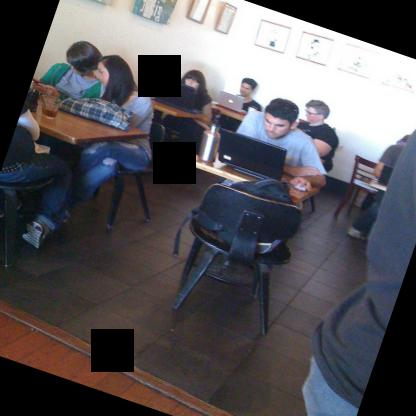backpack: (190, 181, 293, 253), (55, 90, 135, 133)
handbag: (59, 96, 131, 131)
